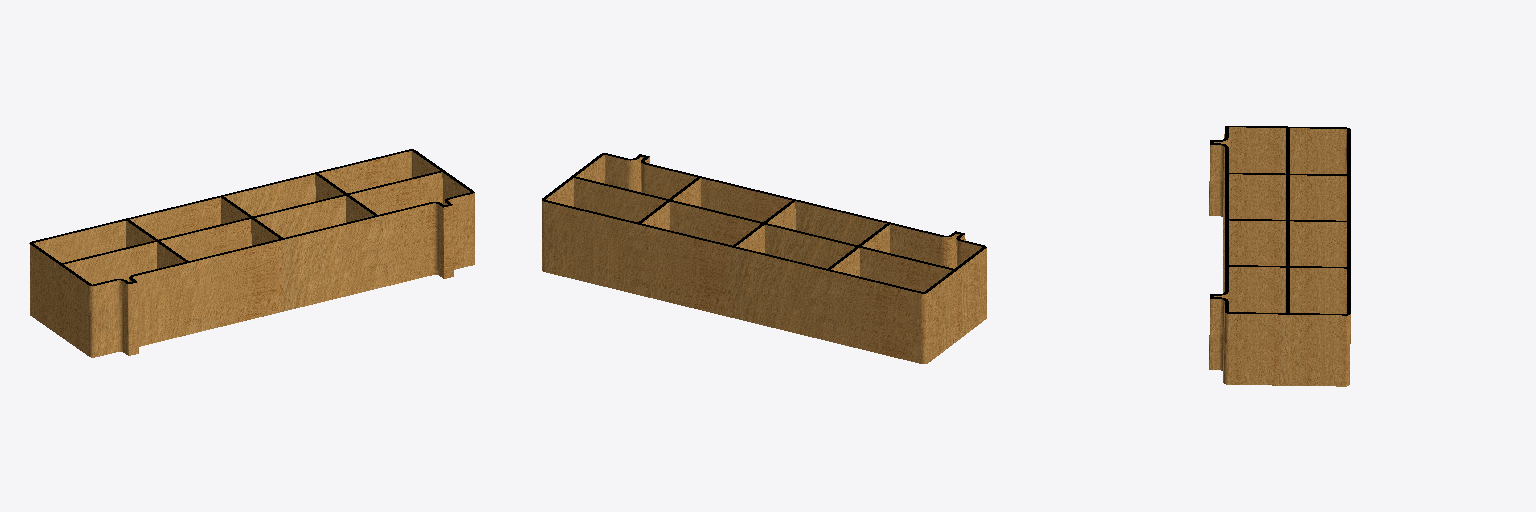
3 views of the same model, side by side, from view 1: azimuth 30°, elevation 25°; view 2: azimuth 150°, elevation 25°; view 3: azimuth 270°, elevation 25° (orthographic).
Parts seen in each view (by area): view 1: Object001; view 2: Object001; view 3: Object001.
Part boxes in pixels (x1,y1,x2,y2): Object001: (29,149,474,357); Object001: (542,153,986,363); Object001: (1209,126,1350,386).
Bounding box in the file's own units: 45.87 × 8.33 × 14.65.
2 materials, 1 textured.